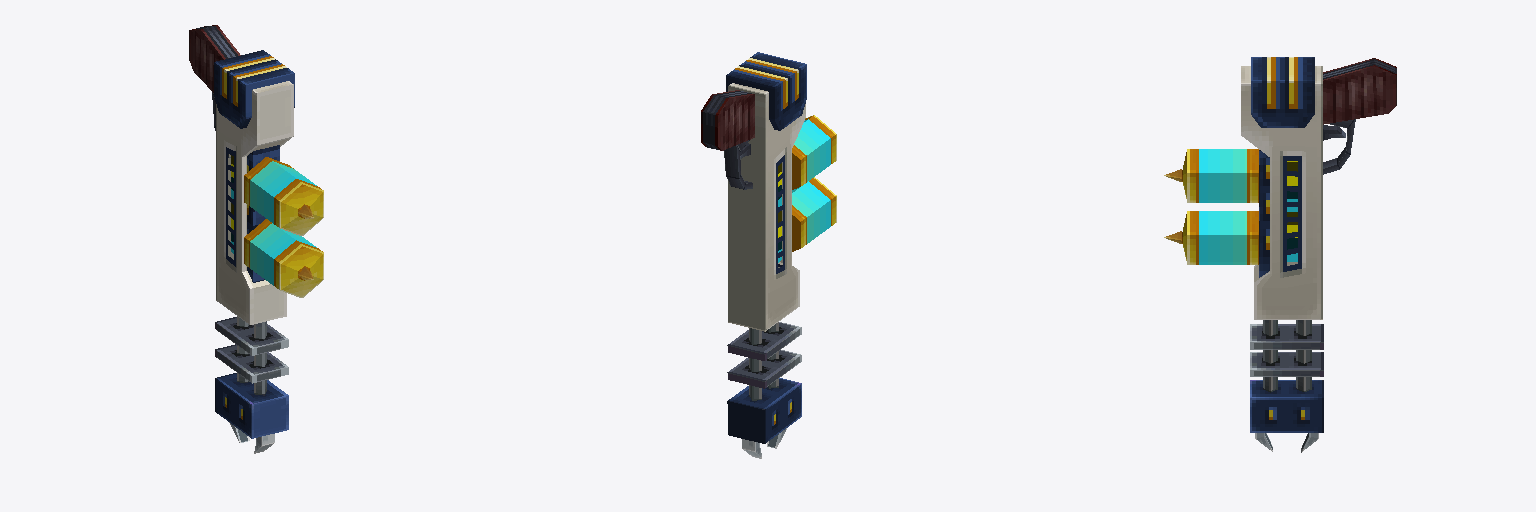
3 views of the same model, side by side, from view 1: azimuth 30°, elevation 25°; view 2: azimuth 150°, elevation 25°; view 3: azimuth 270°, elevation 25° (orthographic).
Visible parts, largest first — view 1: Axl-PlasmaGun; view 2: Axl-PlasmaGun; view 3: Axl-PlasmaGun.
Boxes of the visible parts, x1,y1,x2,y2 form: Axl-PlasmaGun: [189, 25, 323, 453]; Axl-PlasmaGun: [701, 52, 836, 458]; Axl-PlasmaGun: [1164, 57, 1396, 452].
Size of the model in its own units: 1.01 by 7.59 by 4.14.
Materials: 1 (1 with a texture image).